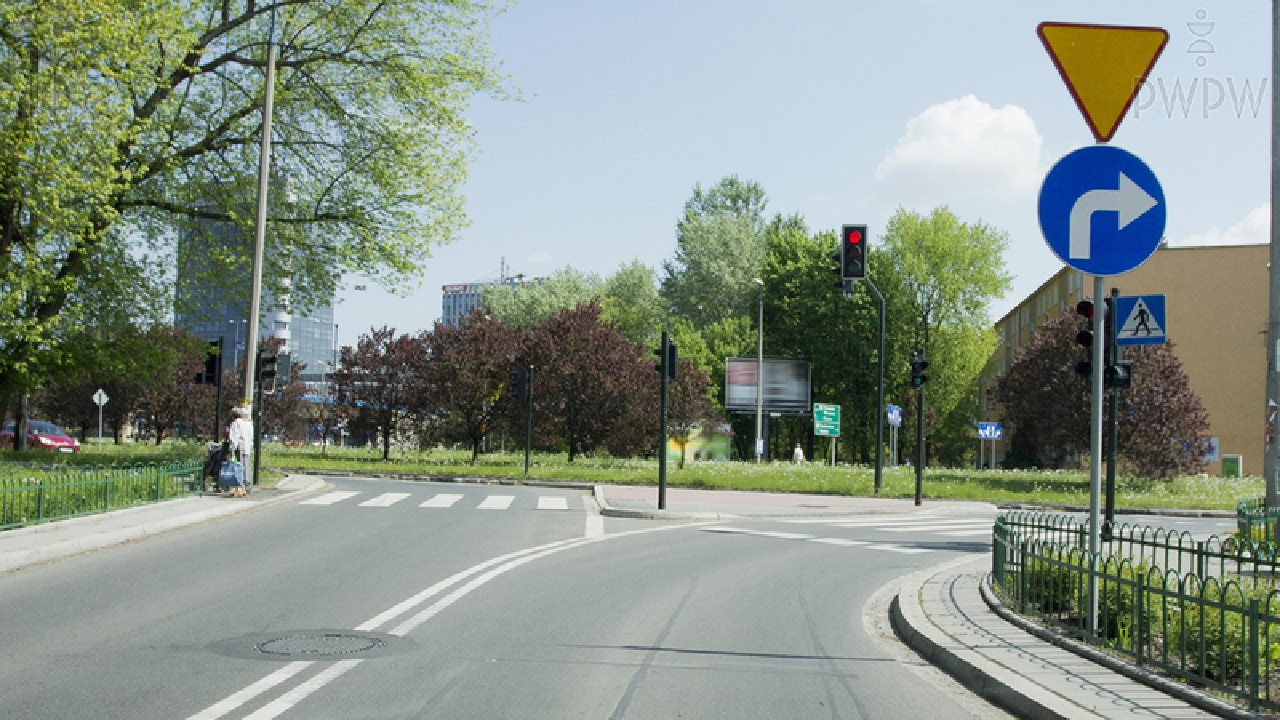A7: (1036, 21, 1170, 144)
C2: (1036, 144, 1166, 276)
D6: (1114, 295, 1167, 344)
Red: (843, 226, 865, 277)
